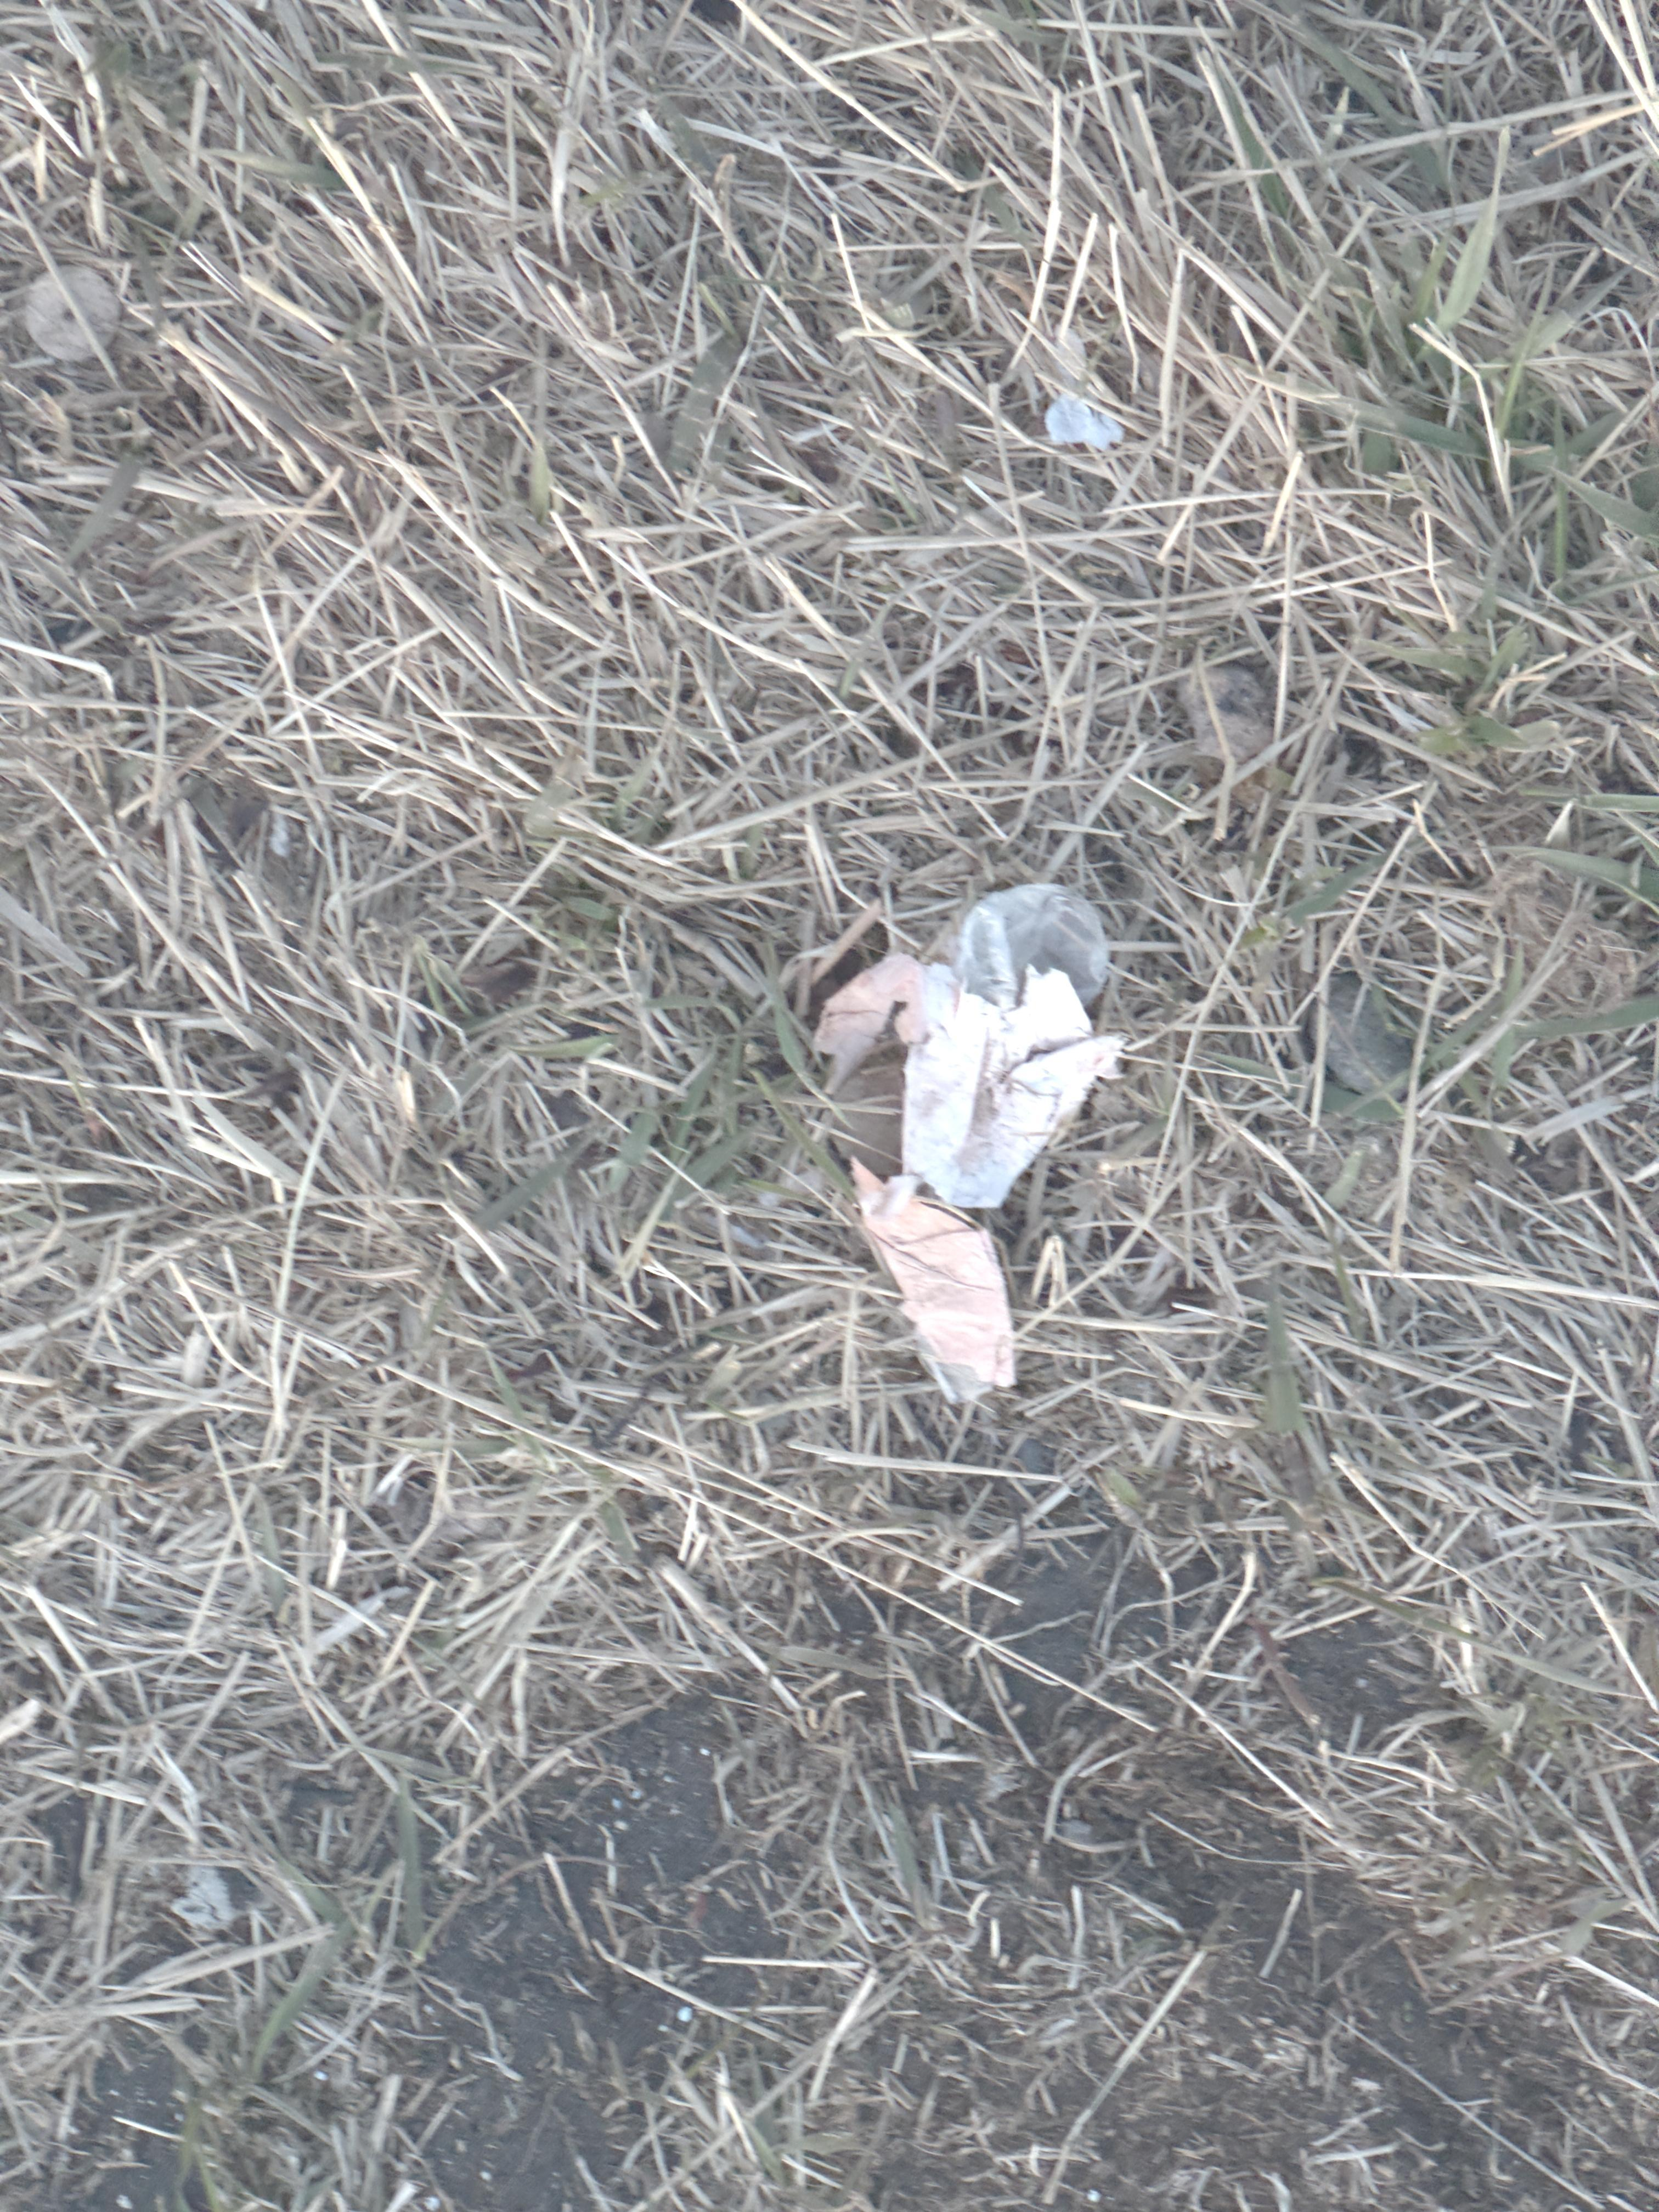trash: (816, 955, 1119, 1400)
